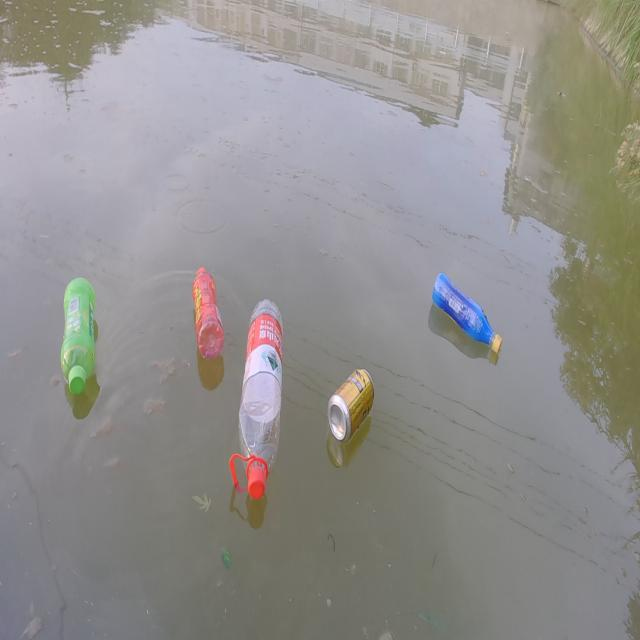bottle: (225, 295, 304, 503), (414, 244, 527, 374), (53, 274, 109, 405), (181, 260, 231, 362)
